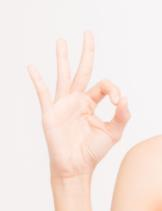left: (23, 28, 133, 172)
